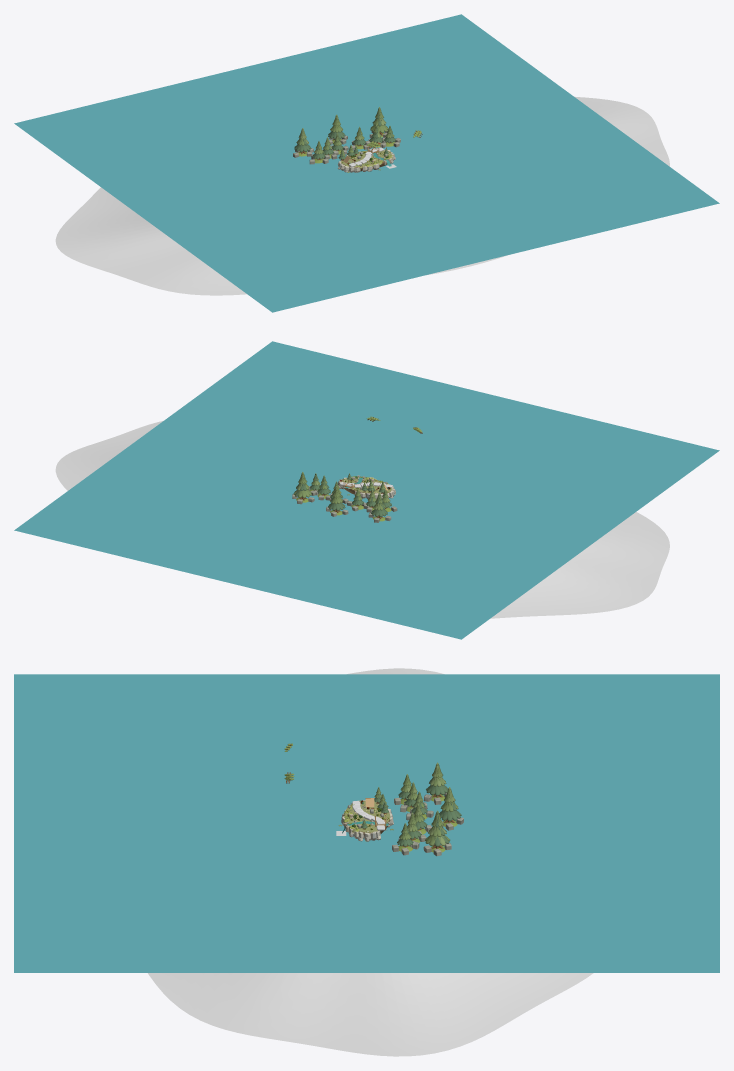
Rendered from FirstTrailPolished_Pass1.fbx.
3 renders of one model, top to bottom at view 1: azimuth 30°, elevation 25°; view 2: azimuth 150°, elevation 25°; view 3: azimuth 270°, elevation 25°, orthographic. The views are drawn at different scales.
Parts seen in each view (by area): view 1: Lake surround.003, Submerged sandy lake shelf.003; view 2: Lake surround.003, Submerged sandy lake shelf.003; view 3: Lake surround.003, Submerged sandy lake shelf.003.
Boxes of the visible parts, left/top/right/bottom form: Lake surround.003: left=14, top=14, right=719, bottom=312; Submerged sandy lake shelf.003: left=55, top=96, right=669, bottom=295; Lake surround.003: left=14, top=341, right=719, bottom=639; Submerged sandy lake shelf.003: left=55, top=421, right=669, bottom=618; Lake surround.003: left=14, top=674, right=719, bottom=972; Submerged sandy lake shelf.003: left=148, top=668, right=593, bottom=1056.
Size of the model in its own units: 9104 by 1144 by 7000.
